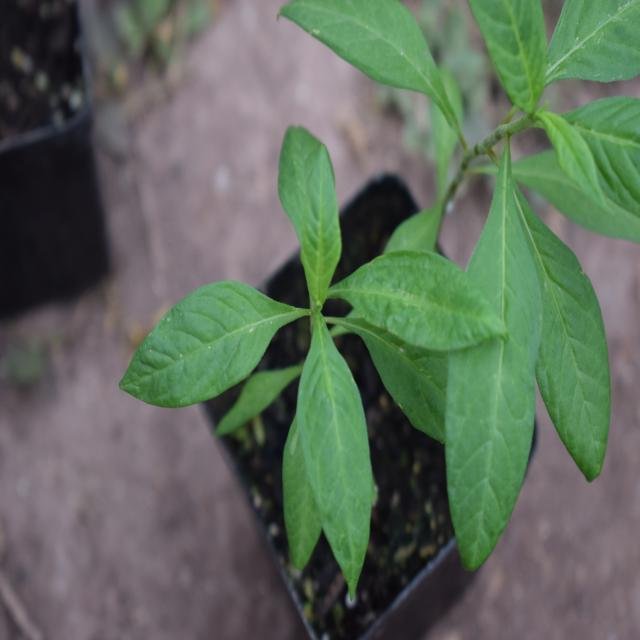white_smart_weed: (153, 124, 500, 590)
